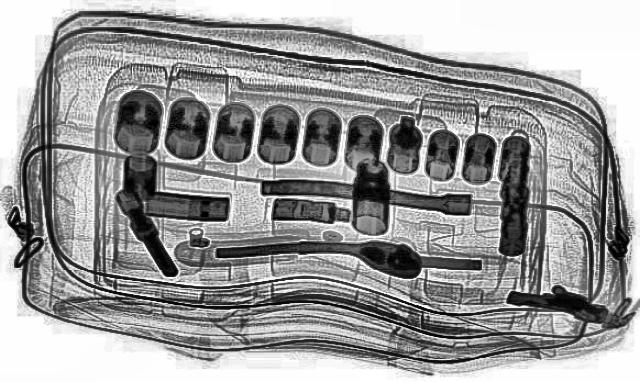Gun: (500, 276, 624, 324)
